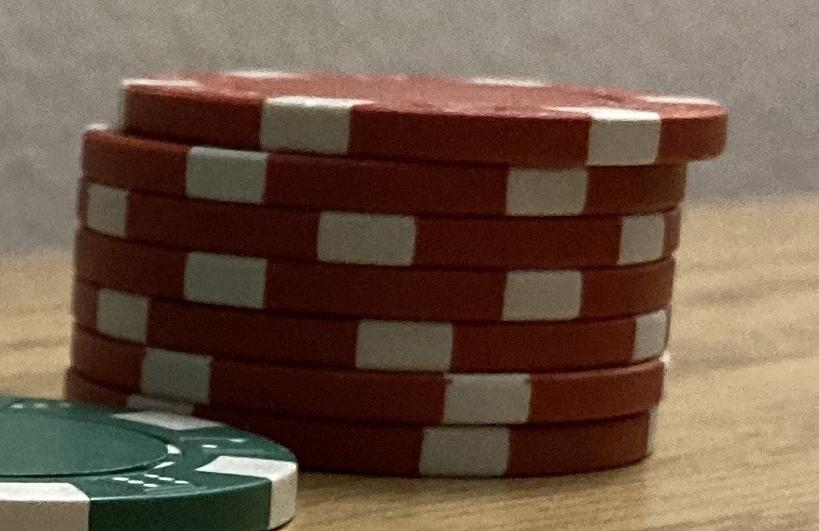Chip: (1, 1, 819, 531)
